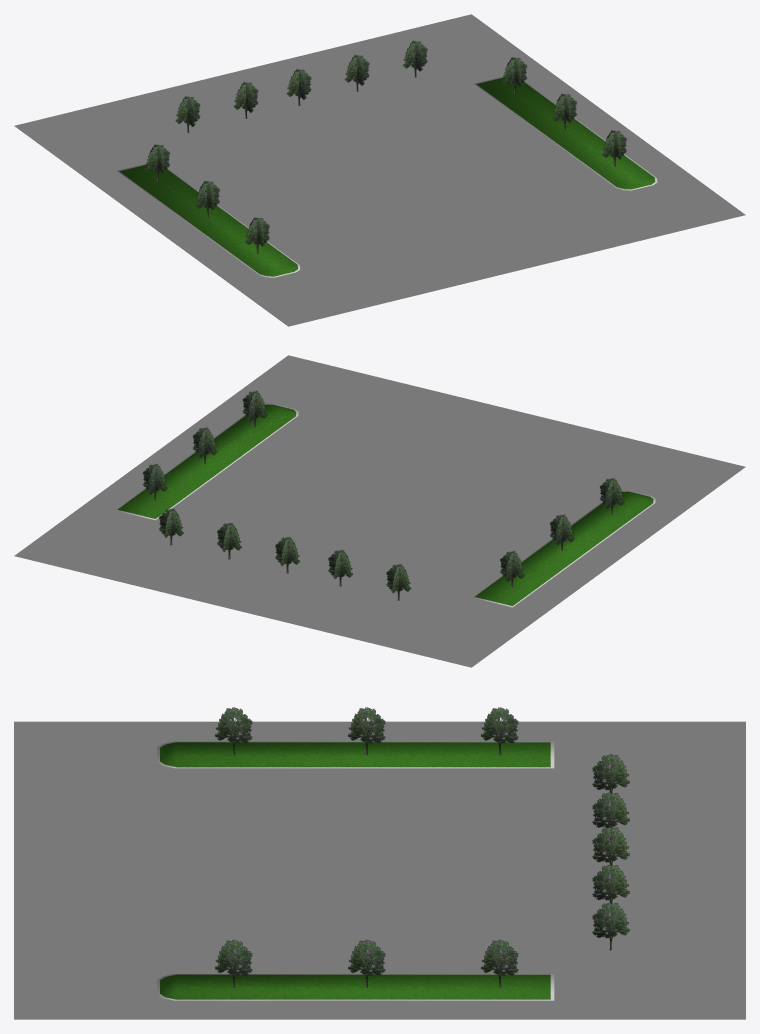
File: cwa_0f_mini.gltf
3 renders of one model, top to bottom at view 1: azimuth 30°, elevation 25°; view 2: azimuth 150°, elevation 25°; view 3: azimuth 270°, elevation 25°, orthographic. The views are drawn at different scales.
Visible parts, largest first — view 1: dimian, dimian_1, dimian_13, dimian_22, dimian_6; view 2: dimian, dimian_13, dimian_1, dimian_6, dimian_22; view 3: dimian, dimian_13, dimian_1, dimian_6, dimian_22, dimian_2, dimian_4, dimian_12, dimian_21, dimian_23, dimian_26, dimian_15 (+4 smaller).
Boxes of the visible parts, <box> form: dimian: <box>14,14,745,326</box>; dimian_1: <box>476,77,655,189</box>; dimian_13: <box>119,164,297,276</box>; dimian_22: <box>474,76,657,190</box>; dimian_6: <box>117,164,300,277</box>; dimian: <box>14,355,745,667</box>; dimian_13: <box>475,491,653,605</box>; dimian_1: <box>117,404,296,518</box>; dimian_6: <box>472,491,655,607</box>; dimian_22: <box>115,403,298,520</box>; dimian: <box>14,721,745,1019</box>; dimian_13: <box>160,742,550,767</box>; dimian_1: <box>160,974,550,999</box>; dimian_6: <box>157,741,554,768</box>; dimian_22: <box>157,974,554,1000</box>; dimian_2: <box>481,707,518,755</box>; dimian_4: <box>348,707,385,755</box>; dimian_12: <box>215,707,252,755</box>; dimian_21: <box>592,901,629,950</box>; dimian_23: <box>348,939,385,987</box>; dimian_26: <box>481,939,518,987</box>; dimian_15: <box>215,939,252,987</box>.
Size of the model in its own units: 250 by 20.64 by 259.
4 materials, 2 textured.
